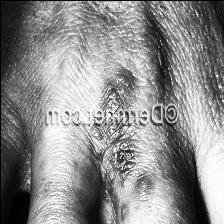Toxin: (94, 67, 154, 207)
